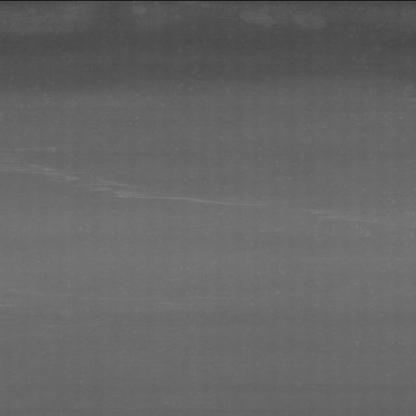silk_spot: (71, 160, 249, 217), (0, 153, 122, 193), (287, 207, 364, 226)
